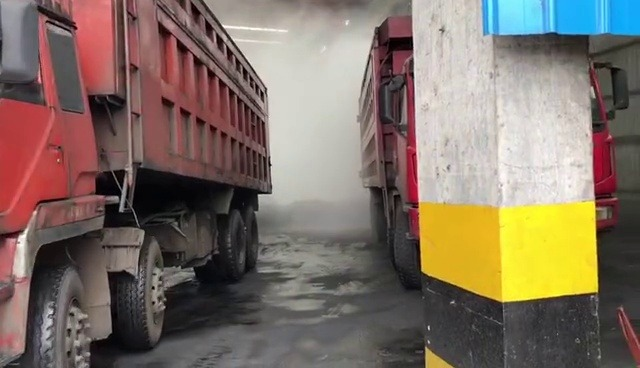dust: (241, 21, 383, 233)
truck: (0, 0, 274, 364), (354, 12, 612, 290)
